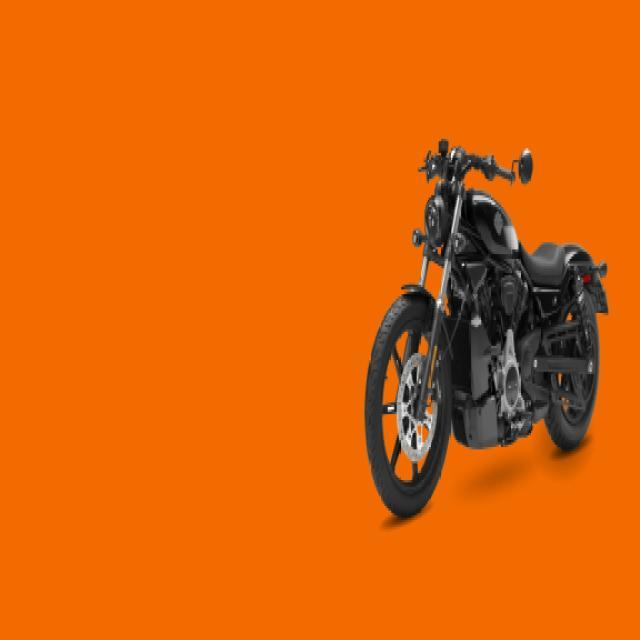motorcycle: (363, 137, 608, 518)
